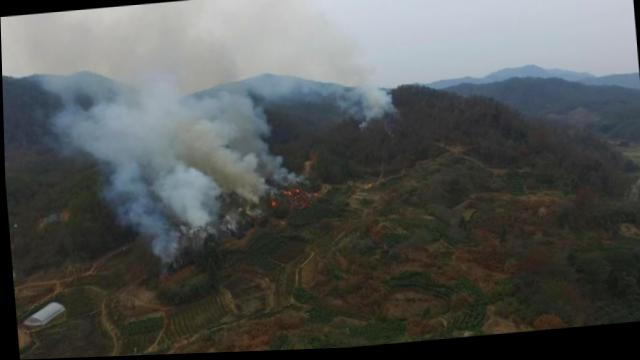fire: (212, 149, 341, 242)
